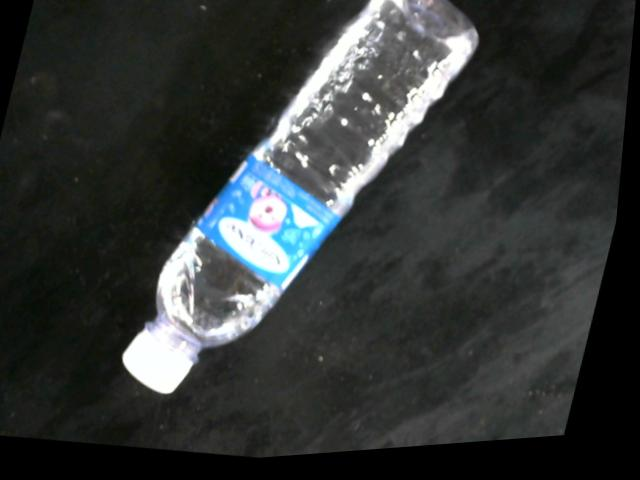bottle: (125, 0, 483, 401)
